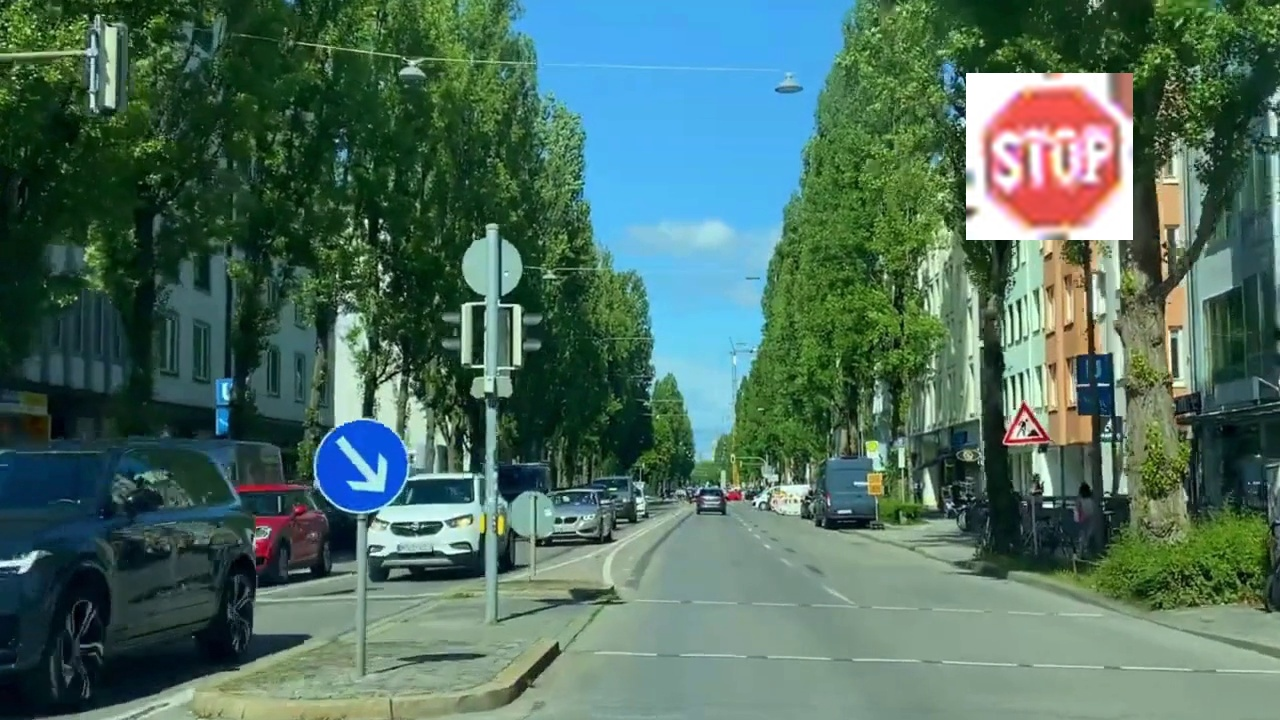Stop: (966, 73, 1133, 240)
